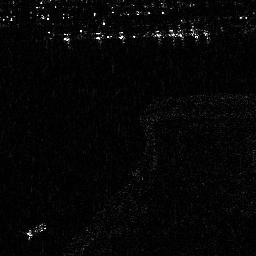ship: (26, 223, 49, 239)
